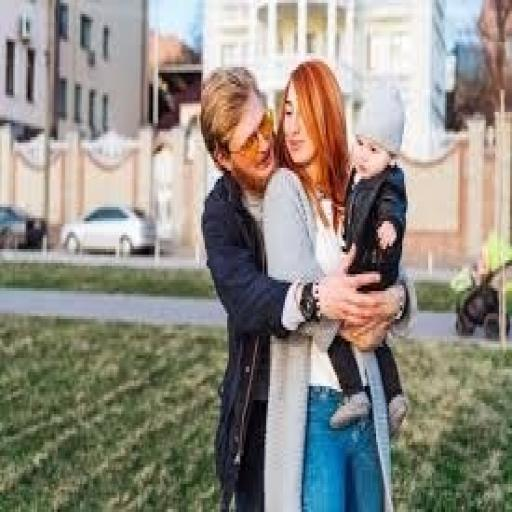hugging: (198, 56, 416, 509)
